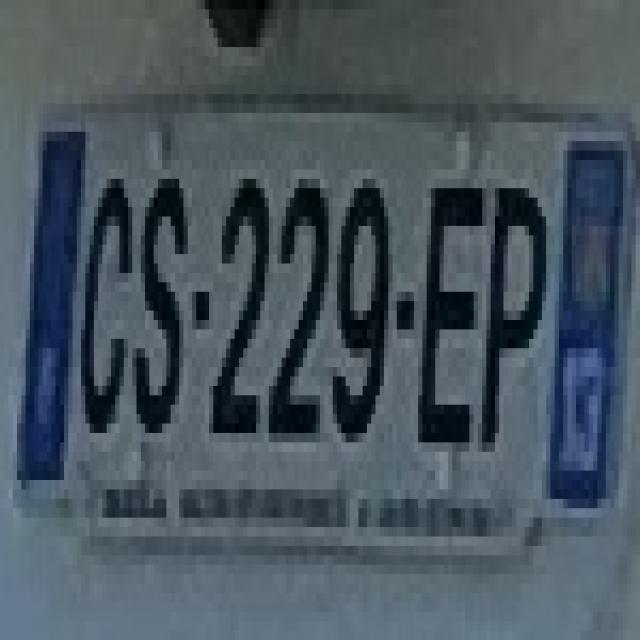EU: (15, 137, 623, 514)
France: (12, 135, 85, 483)
